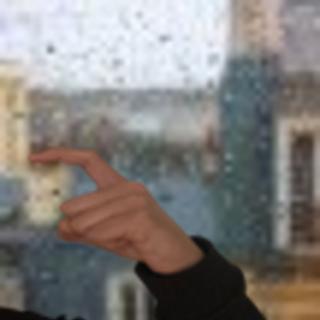WHY: (22, 142, 198, 269)
